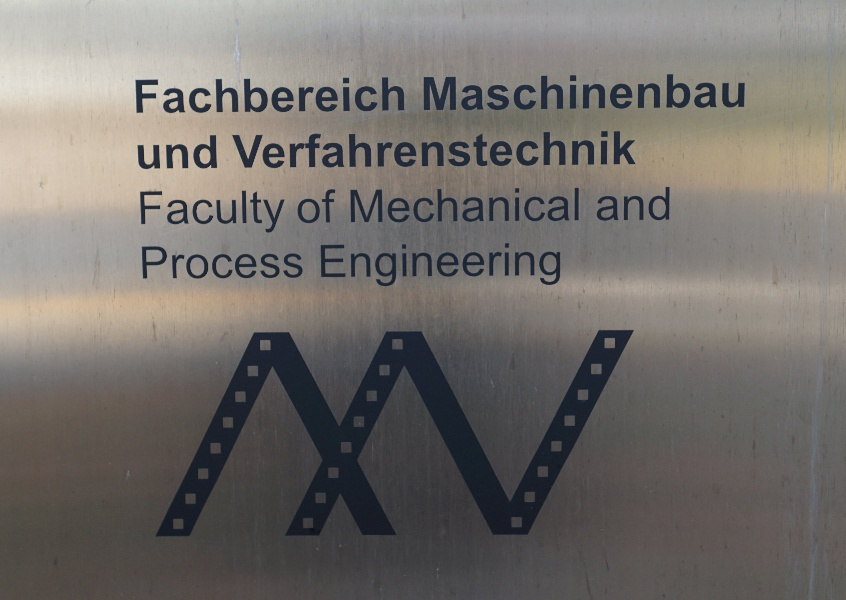text: (545, 244, 561, 286), (145, 190, 160, 232), (161, 190, 176, 232), (177, 190, 192, 232), (193, 190, 208, 232), (209, 190, 224, 232), (225, 190, 240, 232), (241, 190, 256, 232), (257, 190, 272, 232), (321, 244, 336, 286), (337, 244, 352, 286), (353, 244, 368, 286), (369, 244, 384, 286), (385, 244, 400, 286), (401, 244, 416, 286), (417, 244, 432, 286), (433, 244, 448, 286), (449, 244, 464, 286), (465, 244, 480, 286), (481, 244, 496, 286), (497, 244, 512, 286), (513, 244, 528, 286), (529, 244, 544, 286), (241, 130, 256, 168), (257, 130, 272, 168), (273, 130, 288, 168), (289, 130, 304, 168), (305, 130, 320, 168), (321, 130, 336, 168), (337, 130, 352, 168), (353, 130, 368, 168), (369, 130, 384, 168), (385, 130, 400, 168), (401, 130, 416, 168), (417, 130, 432, 168), (433, 130, 448, 168), (449, 130, 464, 168), (465, 130, 480, 168), (481, 130, 496, 168), (497, 130, 512, 168), (513, 130, 528, 168), (529, 130, 544, 168), (545, 130, 560, 168), (561, 130, 576, 168), (577, 130, 592, 168), (593, 130, 608, 168), (609, 130, 624, 168), (145, 77, 160, 114), (161, 77, 176, 114), (177, 77, 192, 114), (193, 77, 208, 114), (209, 77, 224, 114), (225, 77, 240, 114), (241, 77, 256, 114), (257, 77, 272, 114), (273, 77, 288, 114), (289, 77, 304, 114), (305, 77, 320, 114), (321, 77, 336, 114), (337, 77, 352, 114), (353, 77, 368, 114), (369, 77, 384, 114), (385, 77, 400, 114), (433, 75, 448, 112), (449, 75, 464, 112), (465, 75, 480, 112), (481, 75, 496, 112), (497, 75, 512, 112), (513, 75, 528, 112), (529, 75, 544, 112), (545, 75, 560, 112), (561, 75, 576, 112), (577, 75, 592, 112), (593, 75, 608, 112), (609, 75, 624, 112), (625, 75, 640, 112), (641, 75, 656, 112), (657, 75, 672, 112), (673, 75, 688, 112), (689, 75, 704, 112), (705, 75, 720, 112), (721, 75, 736, 112), (145, 136, 160, 171), (161, 136, 176, 171), (177, 136, 192, 171), (193, 136, 208, 171), (305, 190, 320, 224), (353, 189, 368, 223), (369, 189, 384, 223), (385, 189, 400, 223), (401, 189, 416, 223), (417, 189, 432, 223), (433, 189, 448, 223), (449, 189, 464, 223), (465, 189, 480, 223), (481, 189, 496, 223), (497, 189, 512, 223), (513, 189, 528, 223), (529, 189, 544, 223), (545, 189, 560, 223), (561, 189, 576, 223), (609, 187, 624, 221), (625, 187, 640, 221), (641, 187, 656, 221), (273, 190, 285, 232), (145, 247, 160, 280), (161, 247, 176, 280), (177, 247, 192, 280), (193, 247, 208, 280), (209, 247, 224, 280), (225, 247, 240, 280), (241, 247, 256, 280), (257, 247, 272, 280), (273, 247, 288, 280), (321, 190, 335, 224), (289, 247, 303, 280), (657, 187, 669, 221), (625, 130, 635, 168), (737, 75, 746, 112), (599, 187, 608, 221), (232, 130, 240, 168), (136, 77, 144, 114), (424, 75, 432, 112), (209, 136, 217, 171), (138, 136, 144, 171), (299, 190, 304, 224), (140, 190, 144, 232), (401, 77, 405, 114), (577, 189, 579, 223), (351, 189, 352, 223), (143, 247, 144, 280)
